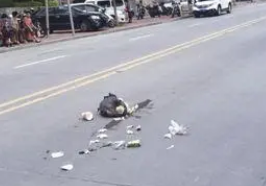garbage: (93, 91, 135, 116), (169, 117, 187, 143), (120, 123, 147, 140), (71, 143, 100, 156), (67, 110, 94, 123), (110, 140, 149, 148), (91, 122, 109, 138), (92, 136, 123, 144), (52, 160, 75, 170), (43, 150, 65, 160)
